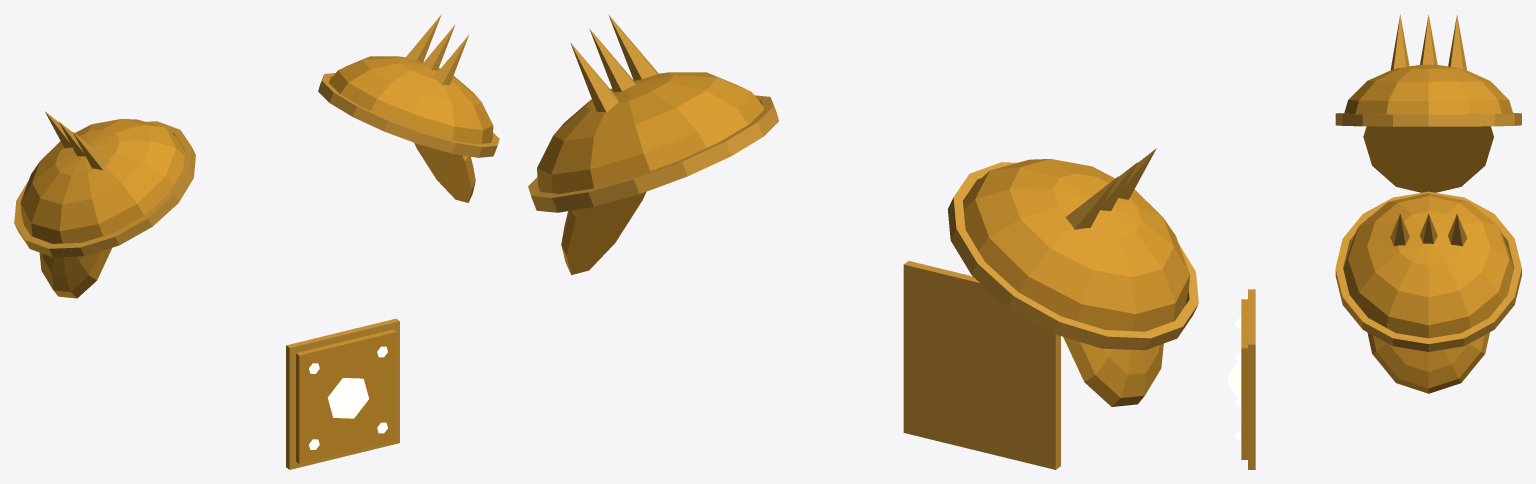
File: armor_guard_chest_legendary_orc.glb
3 views of the same model, side by side, from view 1: azimuth 30°, elevation 25°; view 2: azimuth 150°, elevation 25°; view 3: azimuth 270°, elevation 25° (orthographic). The views are drawn at different scales.
Parts seen in each view (by area): view 1: armor_guard_chest_legendary_orc__clavicle_r, armor_guard_chest_legendary_orc__clavicle_l, armor_guard_chest_legendary_orc__spine_03; view 2: armor_guard_chest_legendary_orc__clavicle_r, armor_guard_chest_legendary_orc__clavicle_l, armor_guard_chest_legendary_orc__spine_03; view 3: armor_guard_chest_legendary_orc__clavicle_l, armor_guard_chest_legendary_orc__clavicle_r, armor_guard_chest_legendary_orc__spine_03.
Boxes of the visible parts, <box> form: armor_guard_chest_legendary_orc__clavicle_r: <box>14,111,195,298</box>; armor_guard_chest_legendary_orc__clavicle_l: <box>318,14,499,202</box>; armor_guard_chest_legendary_orc__spine_03: <box>286,318,399,469</box>; armor_guard_chest_legendary_orc__clavicle_r: <box>947,148,1198,406</box>; armor_guard_chest_legendary_orc__clavicle_l: <box>528,14,778,274</box>; armor_guard_chest_legendary_orc__spine_03: <box>903,261,1060,469</box>; armor_guard_chest_legendary_orc__clavicle_l: <box>1335,191,1521,393</box>; armor_guard_chest_legendary_orc__clavicle_r: <box>1335,14,1521,192</box>; armor_guard_chest_legendary_orc__spine_03: <box>1227,289,1255,469</box>.
Bounding box in the file's own units: 73.09 × 48.26 × 39.23.
